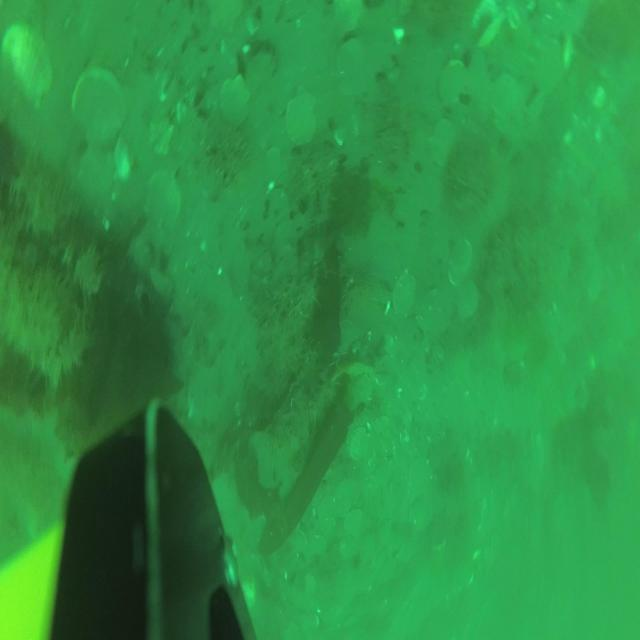scallop: (4, 20, 54, 109), (72, 66, 126, 142), (146, 168, 180, 232), (336, 38, 372, 93), (219, 73, 252, 131), (286, 83, 318, 142), (471, 0, 505, 53), (416, 291, 452, 337), (489, 73, 518, 127), (394, 266, 418, 321), (439, 60, 466, 106), (452, 279, 478, 318), (348, 423, 370, 463), (447, 238, 469, 271)
